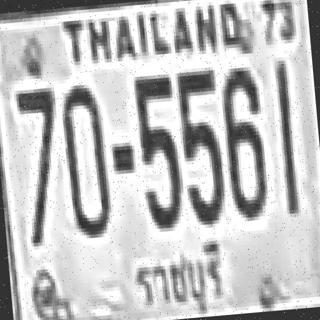N00: (58, 80, 110, 236)
N01: (273, 61, 297, 210)
N05: (174, 66, 225, 222), (131, 70, 182, 226)
N06: (219, 63, 268, 219)
N07: (13, 84, 64, 240), (13, 84, 62, 210), (13, 84, 60, 189)
P52: (124, 237, 235, 318)
